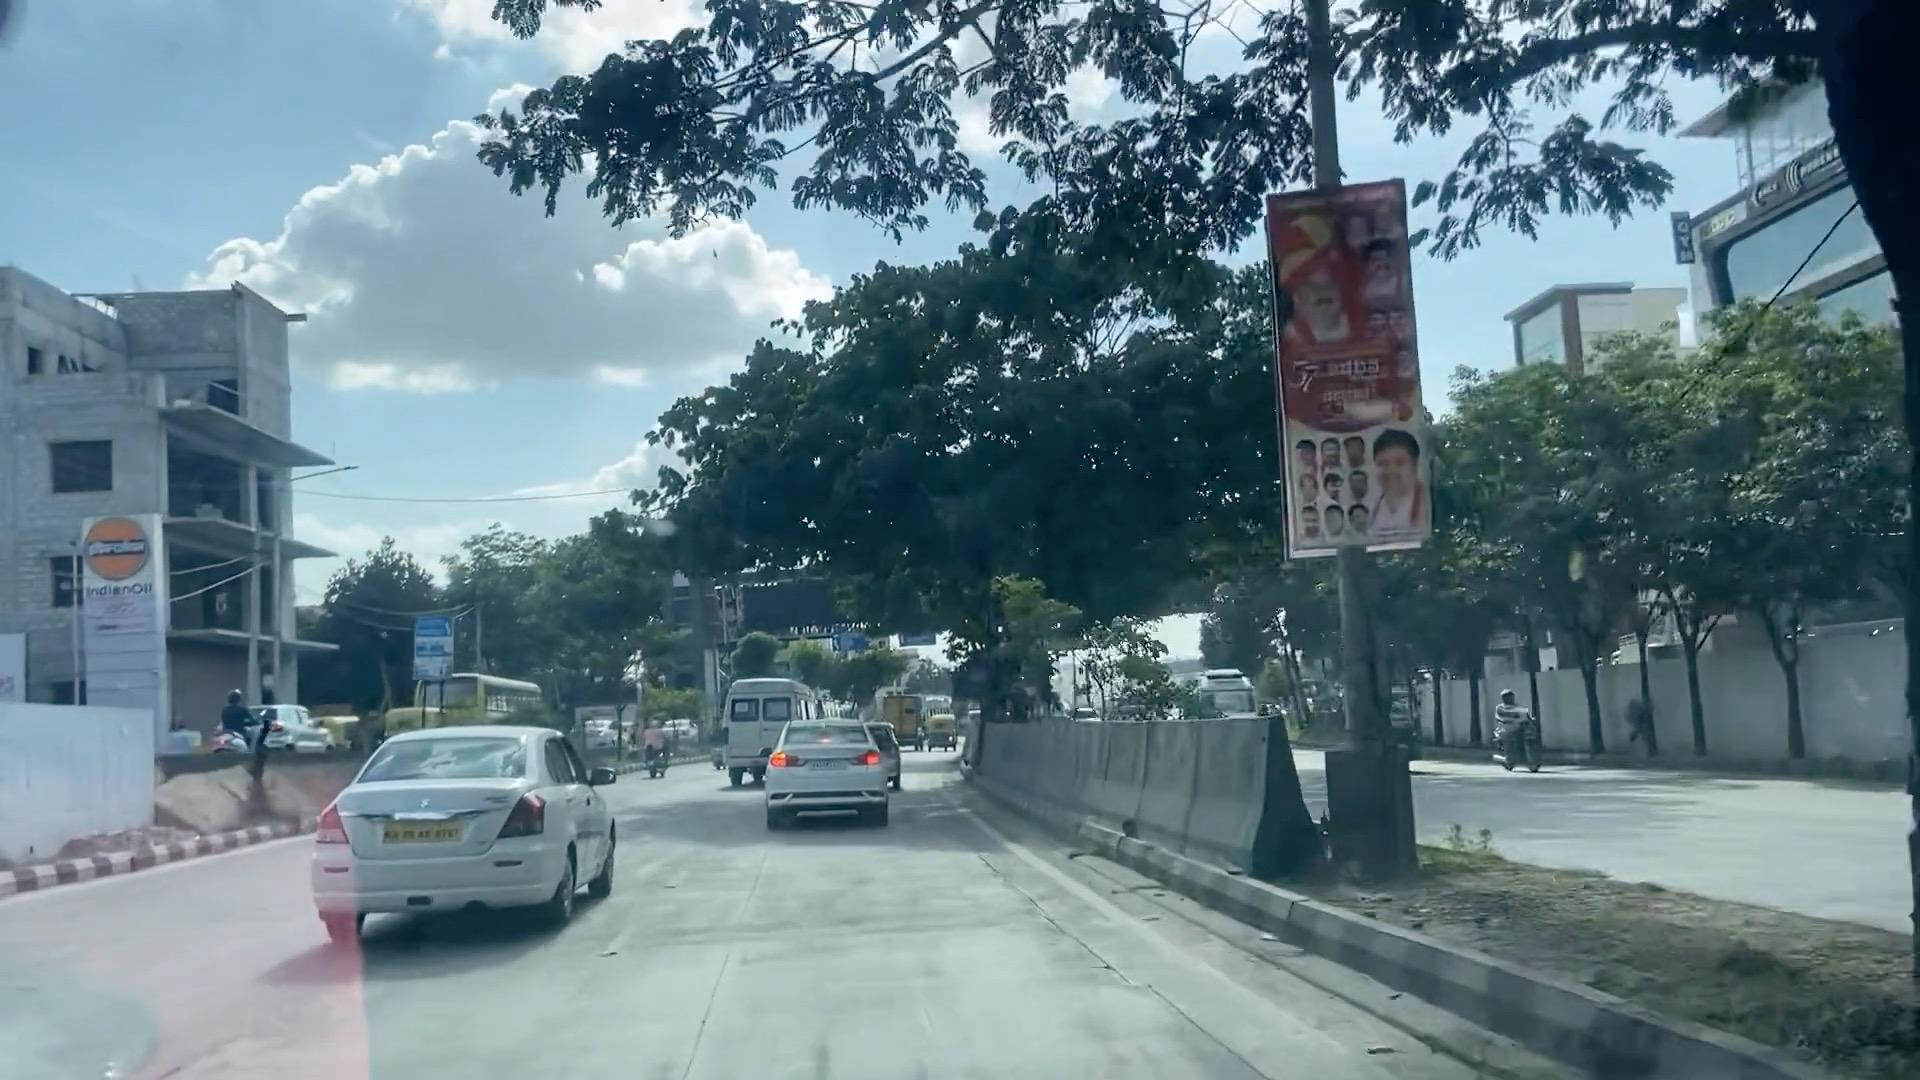LMV: (330, 748, 580, 927), (762, 731, 887, 812)
